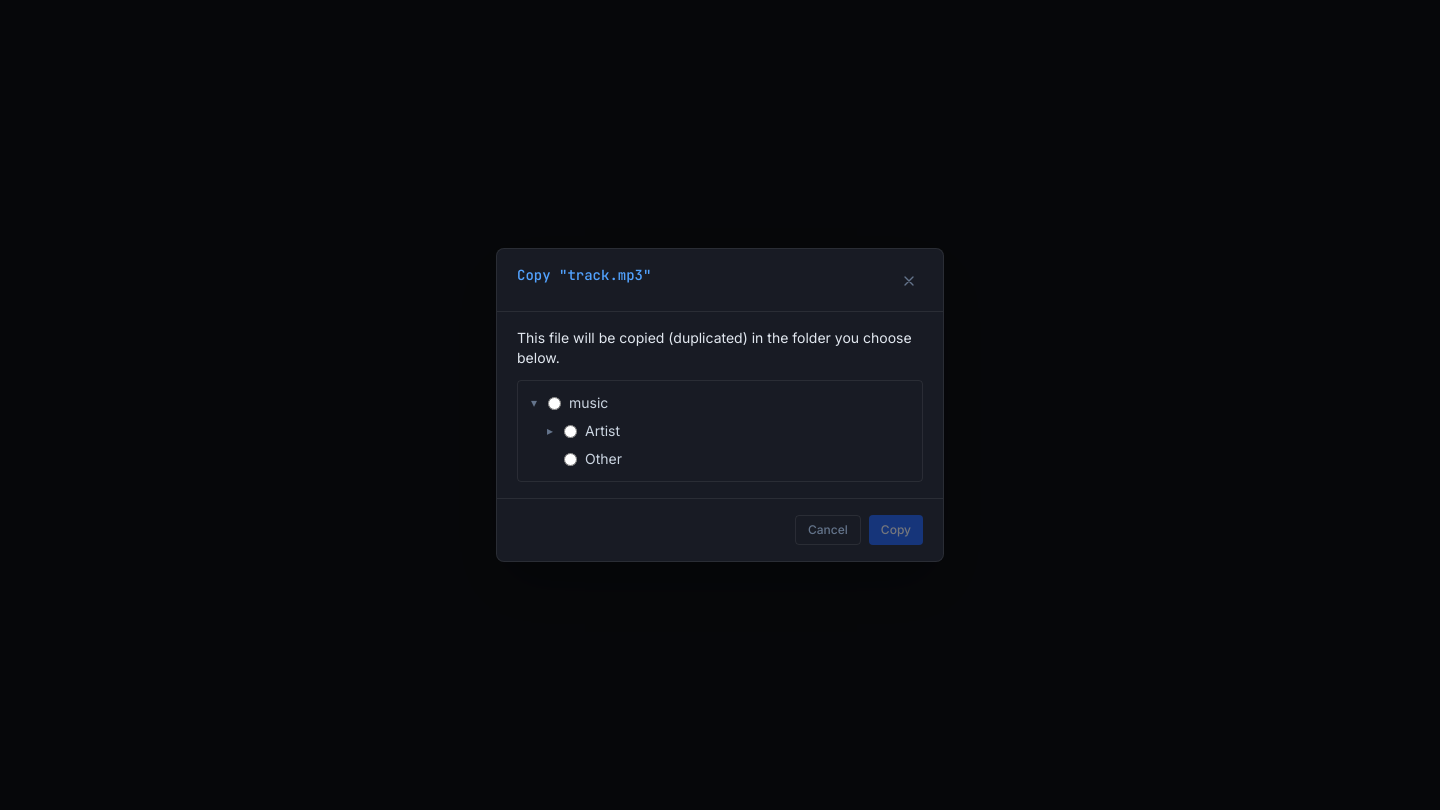
Test: CopyMoveDeleteDialog - Apply enablement › Apply is disabled for copy until a destination is selected
Check: the button "Copy" is disabled, box [869,515,923,545]
Click the radio button labelled "Artist": (570,431) [564,424,577,438]
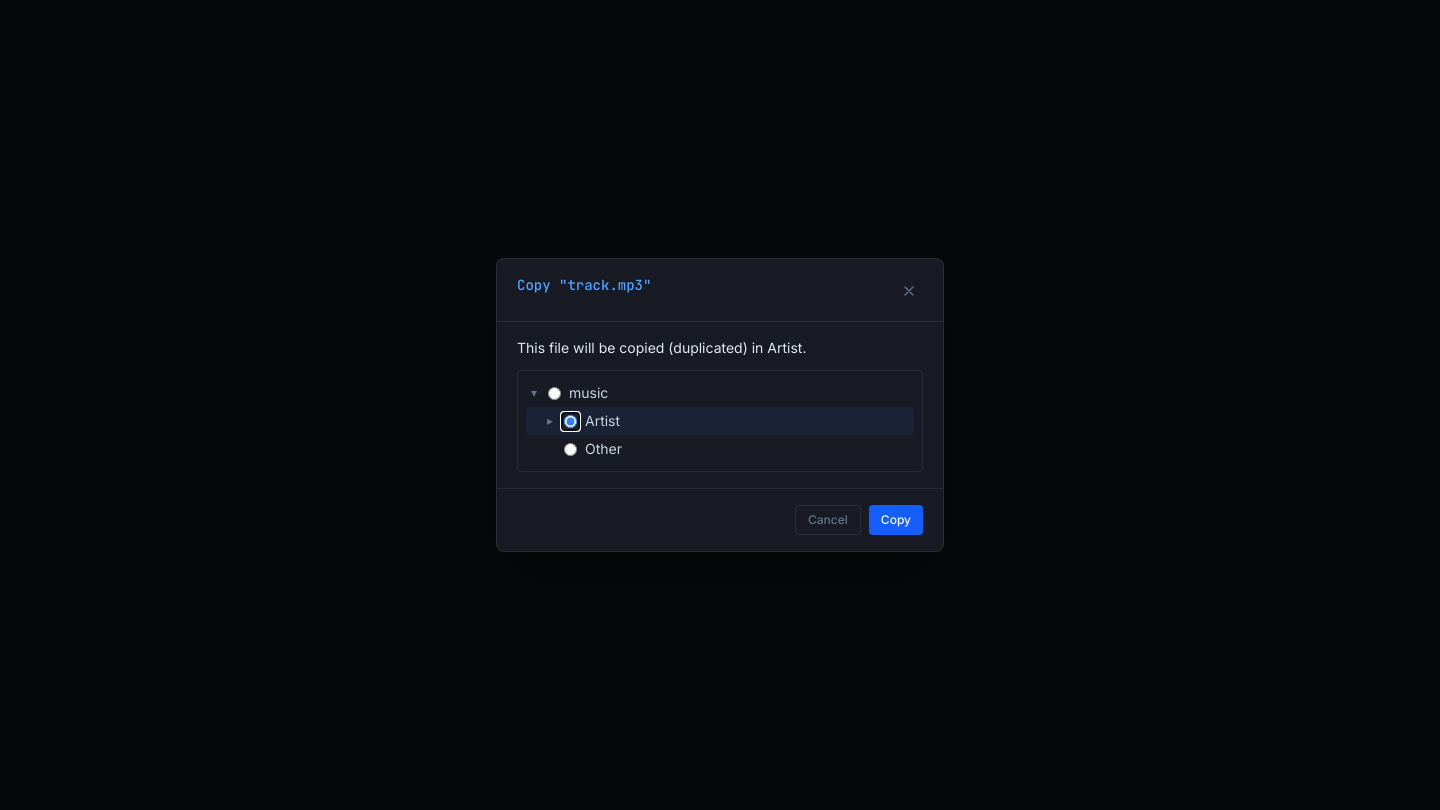
Check: the button "Copy" is enabled, box [869,505,923,535]
